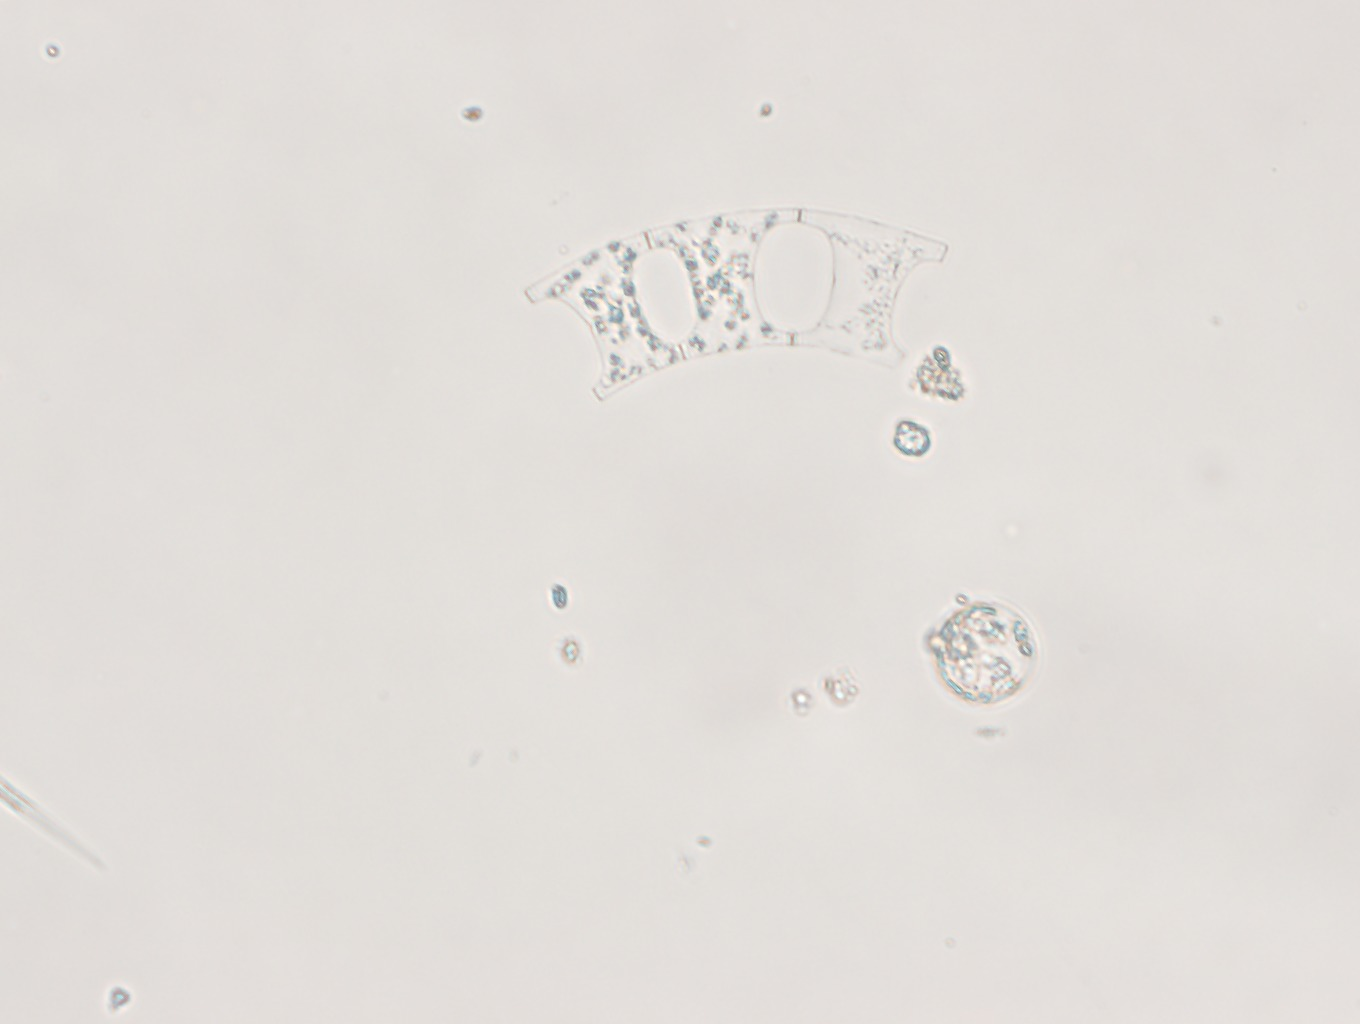eucampia: (522, 207, 947, 402)
